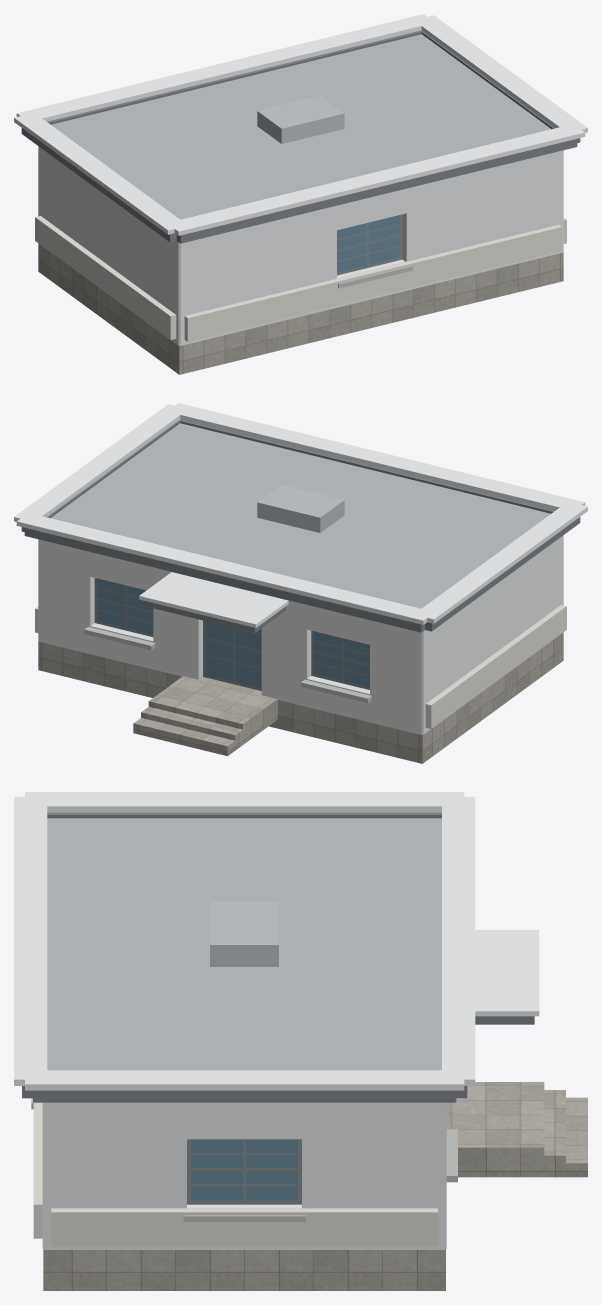
3 views of the same model, one above another, from view 1: azimuth 30°, elevation 25°; view 2: azimuth 150°, elevation 25°; view 3: azimuth 270°, elevation 25° (orthographic). The views are drawn at different scales.
Parts seen in each view (by area): view 1: gate-annex__metalroof, gate-annex__panel, gate-annex__cap, gate-annex__stone, gate-annex__basepaint, gate-annex__darkframe, gate-annex__steel, gate-annex__glass, gate-annex__frame; view 2: gate-annex__metalroof, gate-annex__panel, gate-annex__cap, gate-annex__stone, gate-annex__glass, gate-annex__darkframe, gate-annex__stair-front, gate-annex__basepaint, gate-annex__threshold-front, gate-annex__steel, gate-annex__frame, gate-annex__sill (+1 smaller); view 3: gate-annex__metalroof, gate-annex__cap, gate-annex__panel, gate-annex__stone, gate-annex__basepaint, gate-annex__darkframe, gate-annex__threshold-front, gate-annex__stair-front, gate-annex__glass, gate-annex__steel, gate-annex__frame, gate-annex__sill.
Part boxes in pixels (<box>): gate-annex__metalroof: <box>51,34,550,219</box>; gate-annex__panel: <box>38,146,563,345</box>; gate-annex__cap: <box>14,14,587,235</box>; gate-annex__stone: <box>38,243,563,374</box>; gate-annex__basepaint: <box>35,216,566,341</box>; gate-annex__darkframe: <box>21,30,580,243</box>; gate-annex__steel: <box>257,96,344,143</box>; gate-annex__glass: <box>337,215,399,272</box>; gate-annex__frame: <box>337,214,402,275</box>; gate-annex__metalroof: <box>51,423,550,608</box>; gate-annex__panel: <box>38,535,563,734</box>; gate-annex__cap: <box>14,403,587,627</box>; gate-annex__stone: <box>38,632,563,763</box>; gate-annex__glass: <box>97,578,369,688</box>; gate-annex__darkframe: <box>21,419,580,632</box>; gate-annex__stair-front: <box>133,695,250,756</box>; gate-annex__basepaint: <box>35,605,566,728</box>; gate-annex__threshold-front: <box>157,676,277,738</box>; gate-annex__steel: <box>257,485,344,532</box>; gate-annex__frame: <box>94,578,369,690</box>; gate-annex__sill: <box>84,626,371,702</box>; gate-annex__metalroof: <box>47,818,441,1070</box>; gate-annex__cap: <box>14,792,539,1090</box>; gate-annex__panel: <box>42,1102,446,1249</box>; gate-annex__stone: <box>43,1249,445,1290</box>; gate-annex__basepaint: <box>33,1102,437,1246</box>; gate-annex__darkframe: <box>22,812,467,1102</box>; gate-annex__threshold-front: <box>446,1082,522,1177</box>; gate-annex__stair-front: <box>522,1082,587,1177</box>; gate-annex__glass: <box>191,1139,297,1200</box>; gate-annex__steel: <box>210,901,278,966</box>; gate-annex__frame: <box>187,1139,301,1204</box>; gate-annex__sill: <box>31,1098,457,1222</box>.
Size of the model in its own units: 12.02 by 4.49 by 9.98.
12 materials, 1 textured.
